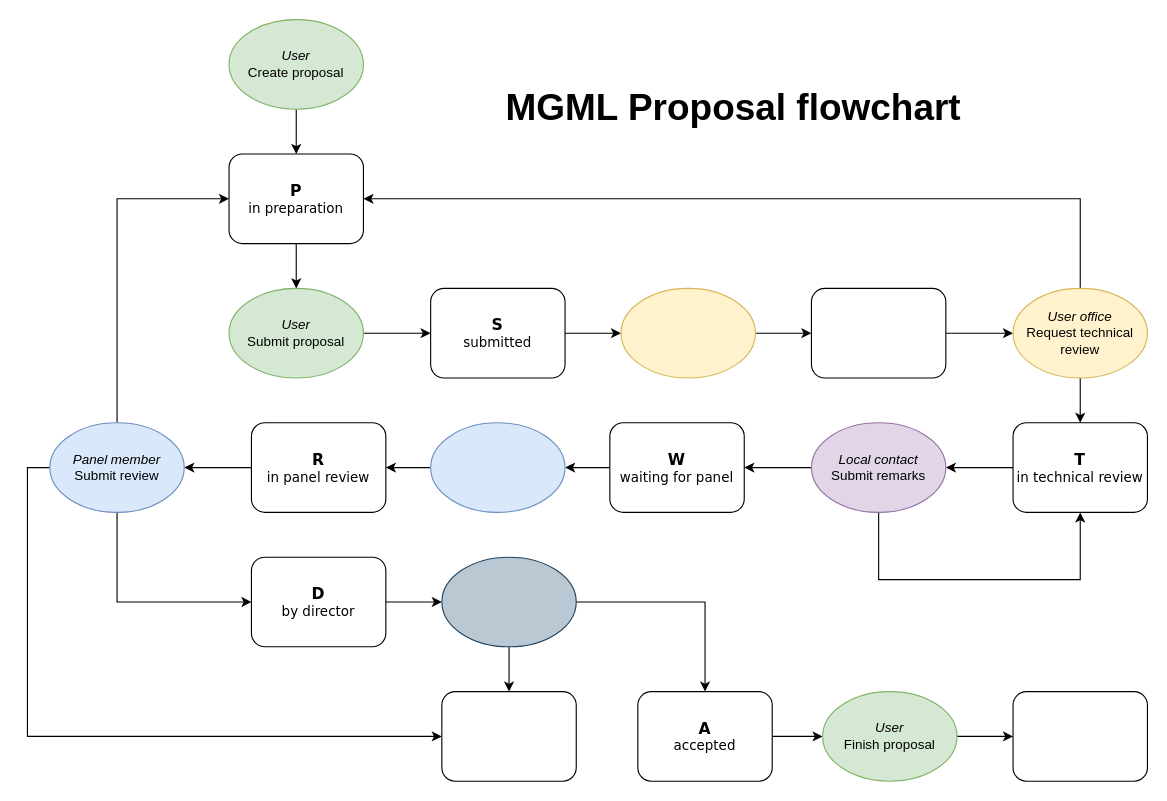
Image size: 1167x801. Some labels were removed from this diagram. The shapes that lost their labels are listed below. From the top down, each one's centre as x and y in pixels, then its label:
At point (687, 332): "User office Takeover proposal".
At point (878, 332): "U user office checking".
At point (497, 467): "Panel chair Select reviewers".
At point (508, 601): "Director Director decision".
At point (508, 735): "X rejected".
At point (1079, 735): "F finished".
